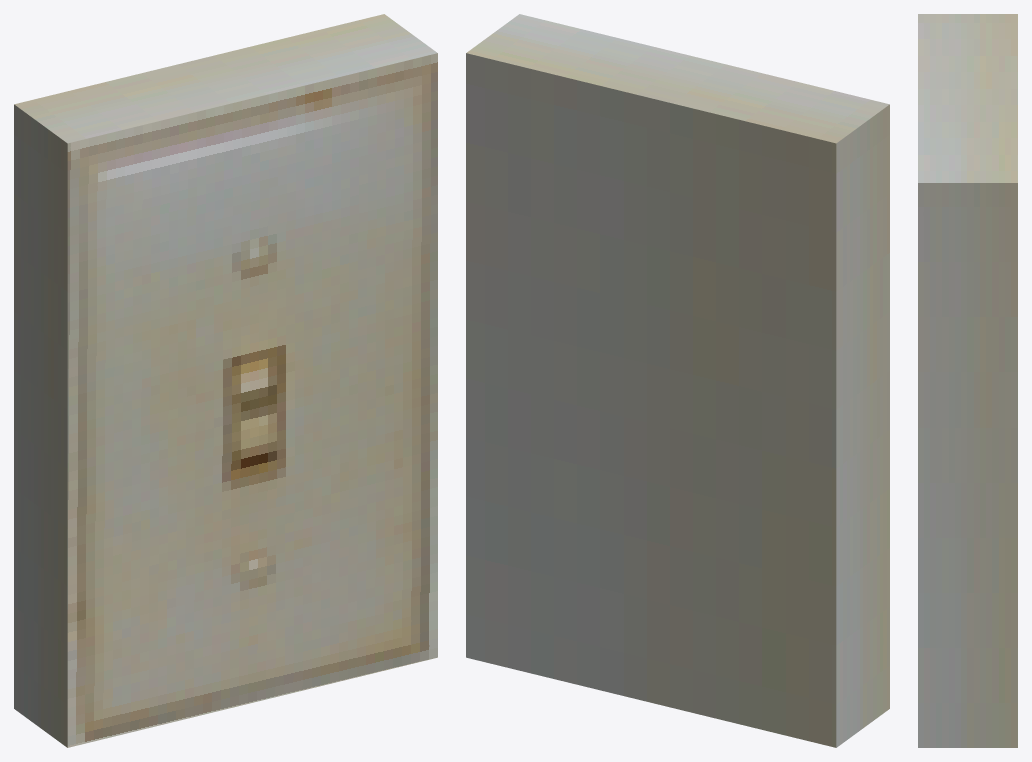
File: SM_Lightswitch.fbx
3 renders of one model, left to right at view 1: azimuth 30°, elevation 25°; view 2: azimuth 150°, elevation 25°; view 3: azimuth 270°, elevation 25°, orthographic. The views are drawn at different scales.
Visible parts, largest first — view 1: Lightswitch; view 2: Lightswitch; view 3: Lightswitch.
Part boxes in pixels (x1,y1,x2,y2): Lightswitch: [14, 14, 437, 747]; Lightswitch: [466, 14, 889, 747]; Lightswitch: [918, 14, 1017, 747].
Bounding box in the file's own units: 8 × 12.48 × 2.
